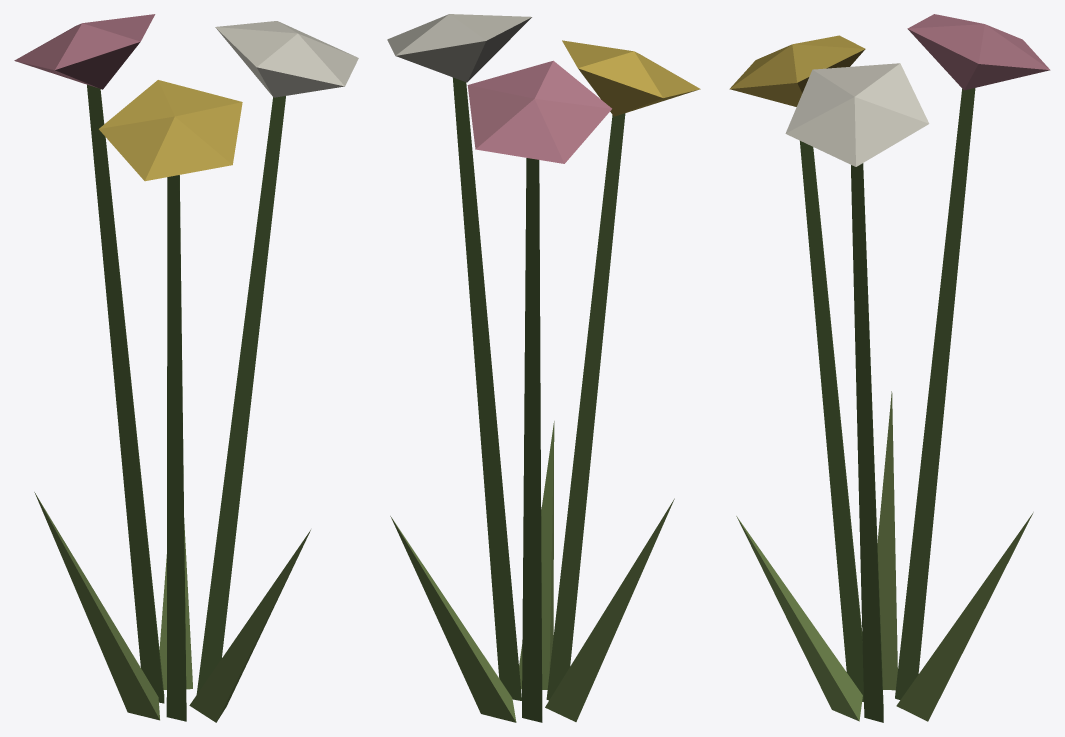
Rendered from flowers.glb.
3 views of the same model, side by side, from view 1: azimuth 30°, elevation 25°; view 2: azimuth 150°, elevation 25°; view 3: azimuth 270°, elevation 25° (orthographic).
Parts seen in each view (by area): view 1: flowers; view 2: flowers; view 3: flowers.
Boxes of the visible parts, x1,y1,x2,y2 form: flowers: [14, 14, 358, 722]; flowers: [387, 14, 700, 722]; flowers: [729, 14, 1050, 722].
Bounding box in the file's own units: 0.32 × 0.66 × 0.29.
